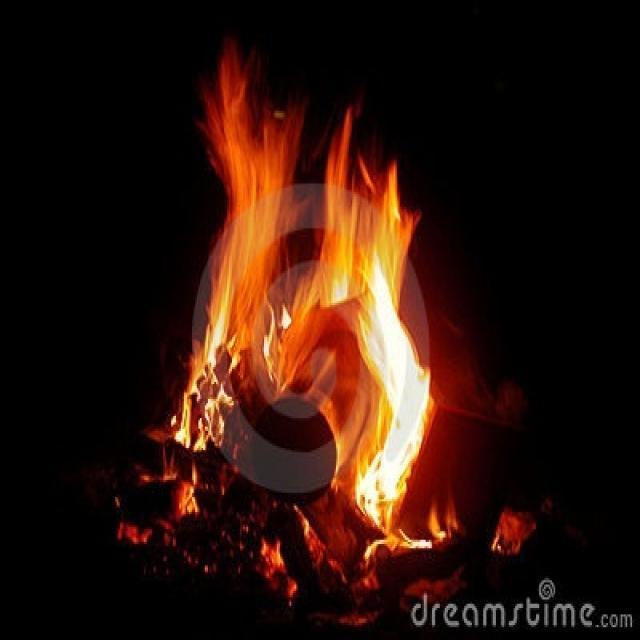Fire: (160, 34, 461, 610)
